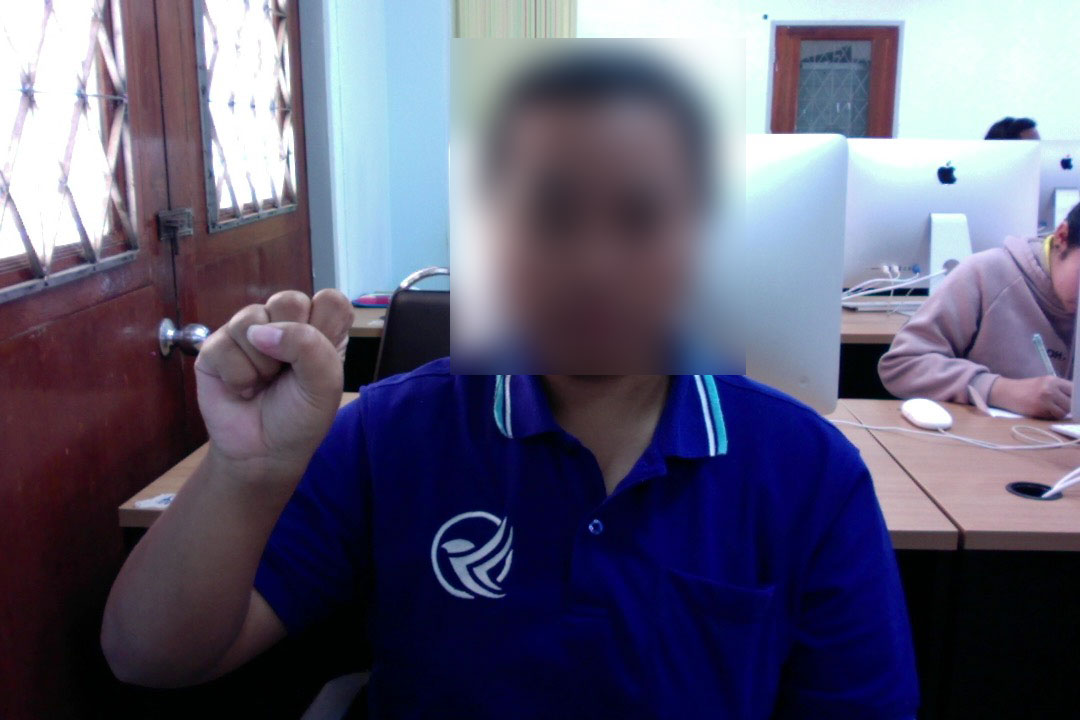sor: (186, 281, 363, 487)
